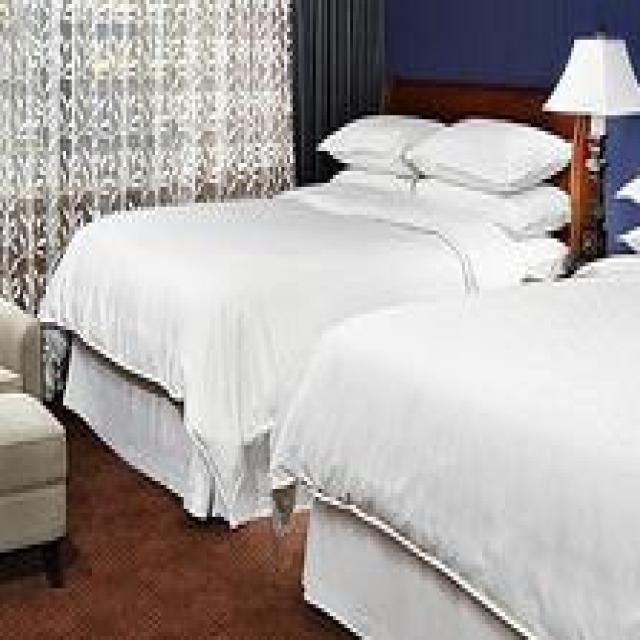bed: (38, 76, 588, 528)
